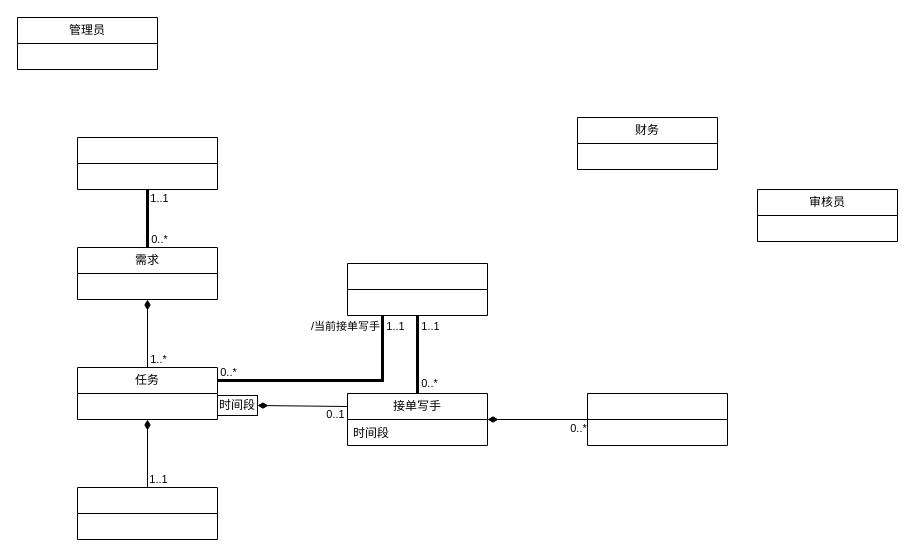
Some shapes in this 915 by 557 pixel diagram are drawn without their labels. The centre of each missing label's shape, as x and y in pixels:
"写手" goes at [417,289].
"商家" goes at [147,163].
"审核过程" goes at [657,419].
"文章" goes at [147,513].
